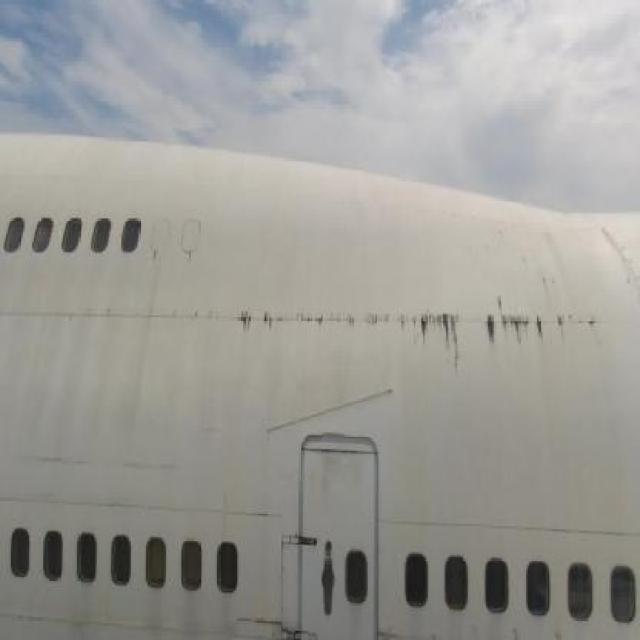Missing-Rivet: (274, 538, 292, 618)
Rust: (224, 287, 611, 371), (514, 235, 574, 303), (247, 606, 304, 640), (152, 252, 160, 274), (183, 251, 194, 266)
Scartch: (8, 437, 195, 489), (597, 217, 640, 314), (315, 453, 370, 507)
